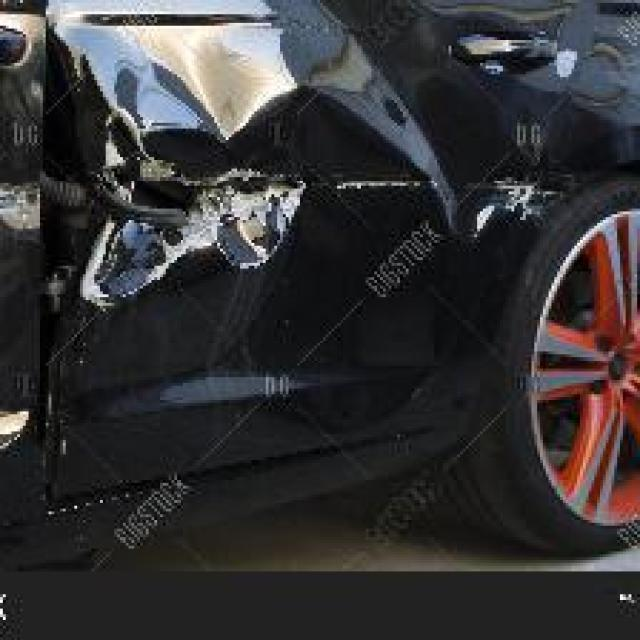damaged: (23, 106, 314, 320), (337, 160, 572, 240)
